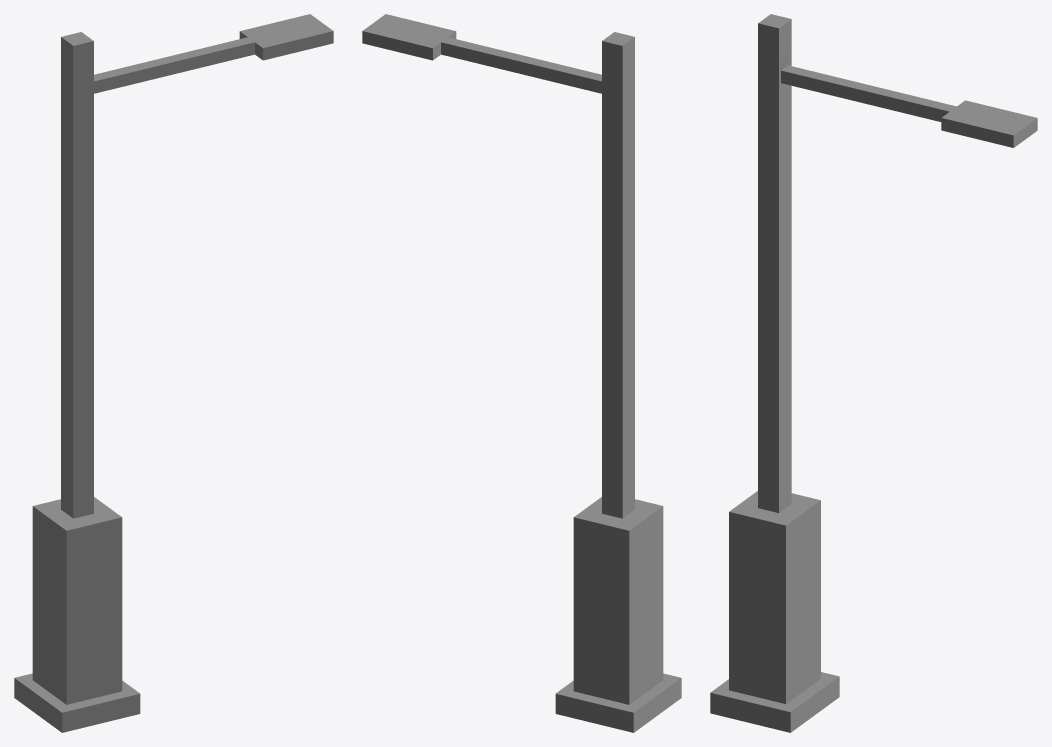
Rendered from lamp01.FBX.
The picture shows the model from 3 angles, left to right: view 1: azimuth 30°, elevation 25°; view 2: azimuth 150°, elevation 25°; view 3: azimuth 330°, elevation 25°; orthographic projection. The views are drawn at different scales.
Visible parts, largest first — view 1: lamp01; view 2: lamp01; view 3: lamp01.
Boxes of the visible parts, x1=… form: lamp01: x1=14, y1=14, x2=333, y2=732; lamp01: x1=362, y1=14, x2=681, y2=732; lamp01: x1=710, y1=14, x2=1037, y2=732.
Size of the model in its own units: 381 by 855 by 111.
